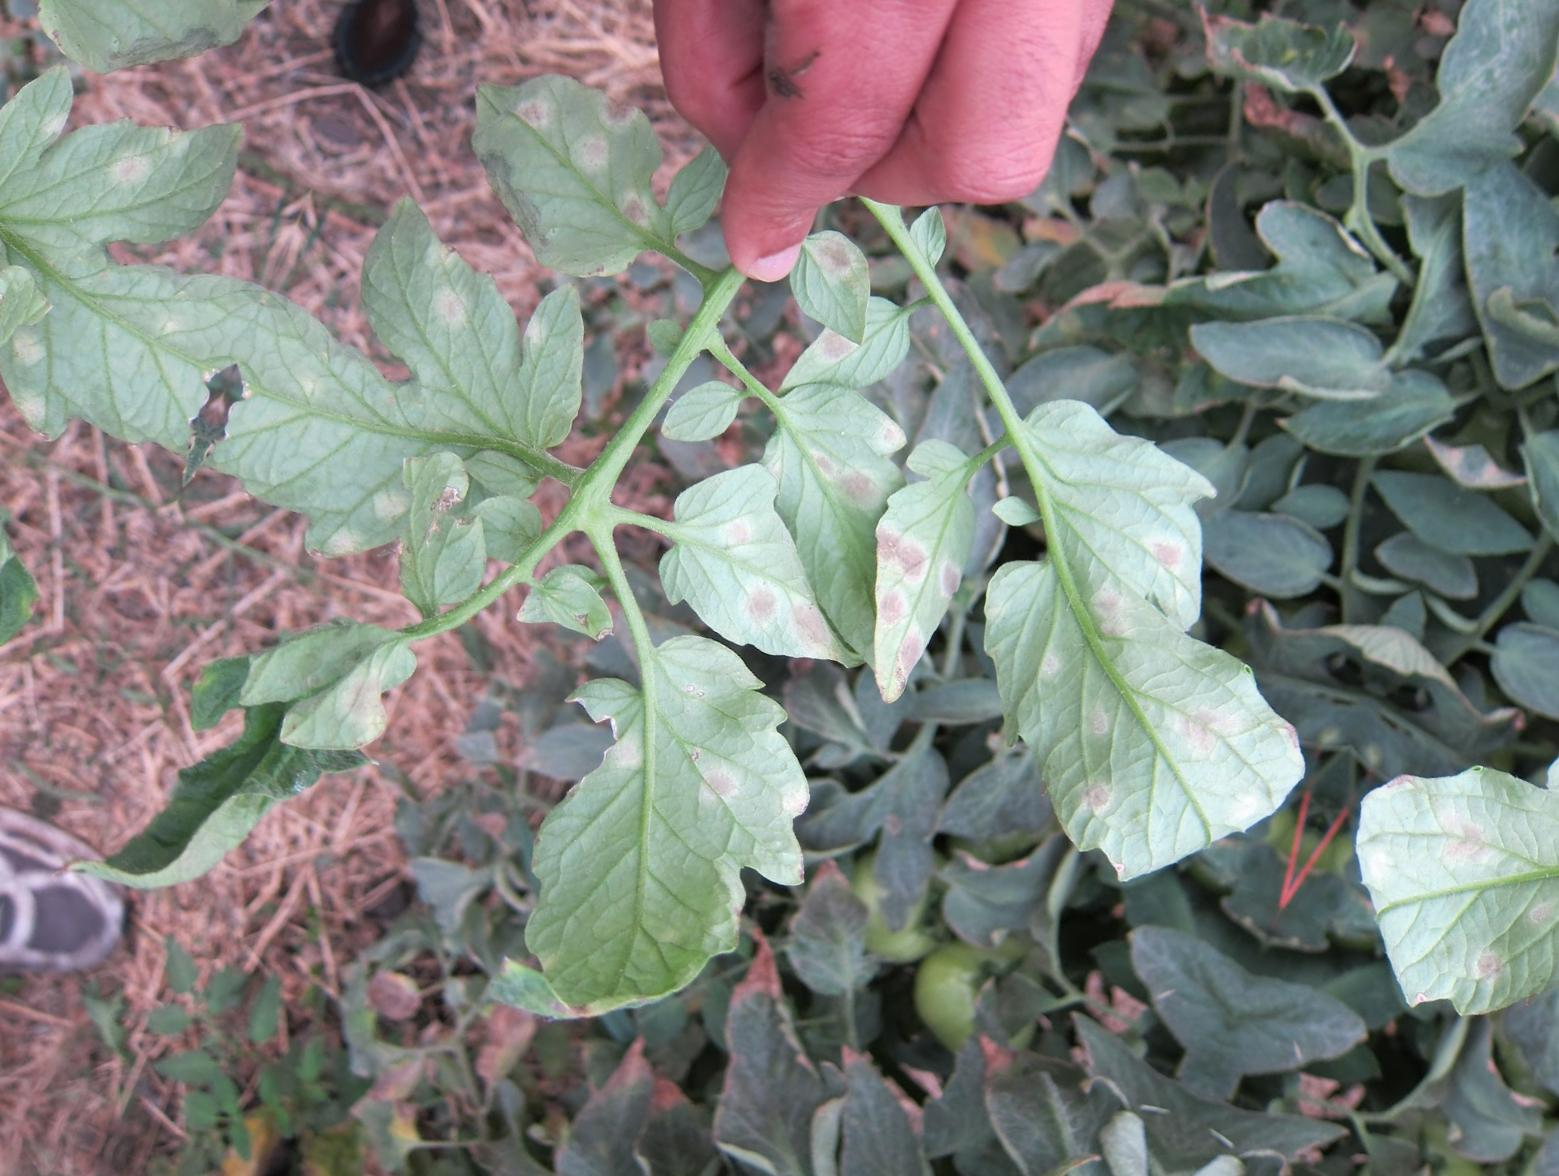Tomato mold leaf: (864, 392, 1416, 941), (436, 600, 880, 1149), (193, 167, 625, 616), (54, 550, 435, 1002), (684, 356, 986, 677), (413, 37, 742, 330), (620, 422, 930, 708), (813, 408, 1049, 736), (343, 441, 530, 641), (765, 215, 924, 376)
